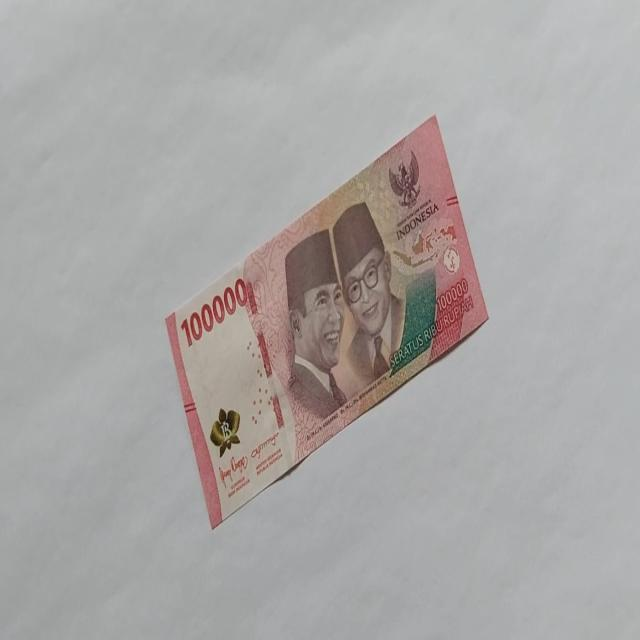seratus ribu rupiah: (165, 112, 490, 529), (331, 200, 407, 396)
